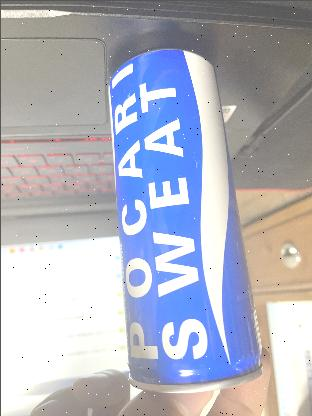Can: (100, 46, 260, 396)
